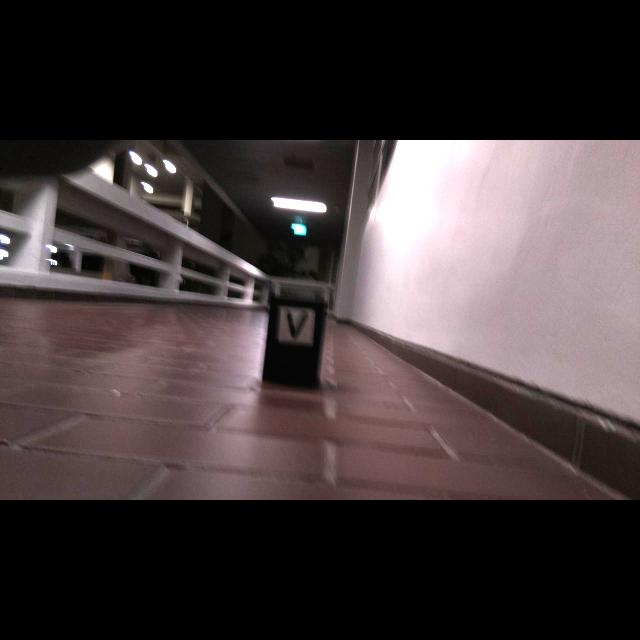V: (287, 311, 309, 339)
